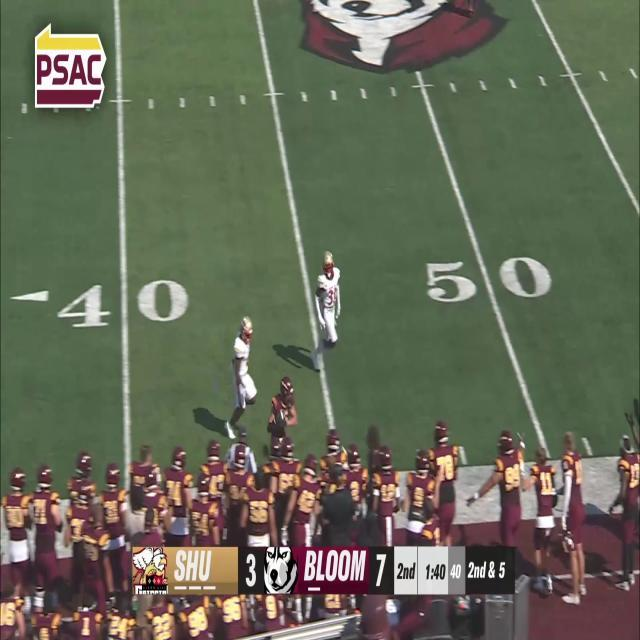football: (272, 410, 286, 428)
